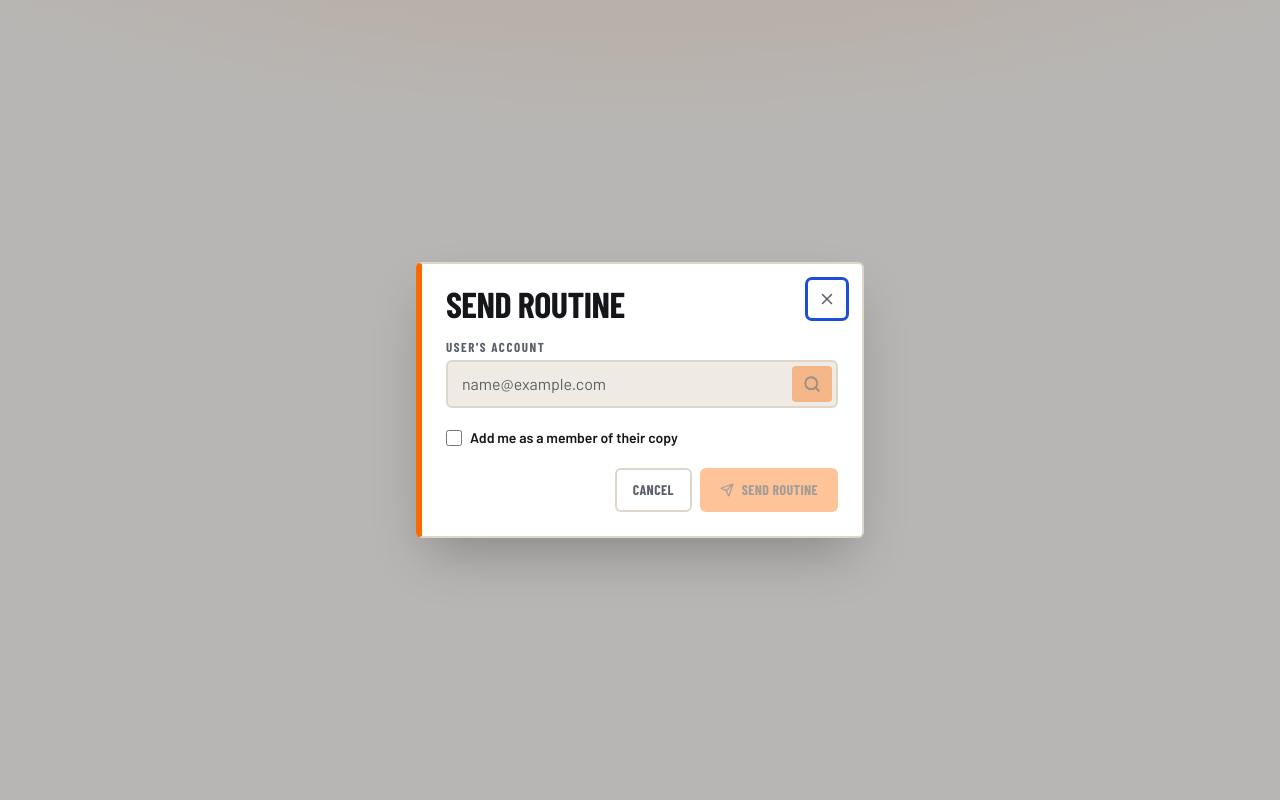
Test case: SendRoutineModal › swaps the search for a check and shows who was found
Type "Ada@Example.com" into the field labelled "User's account" at x=618, y=384, box [448, 362, 788, 406]
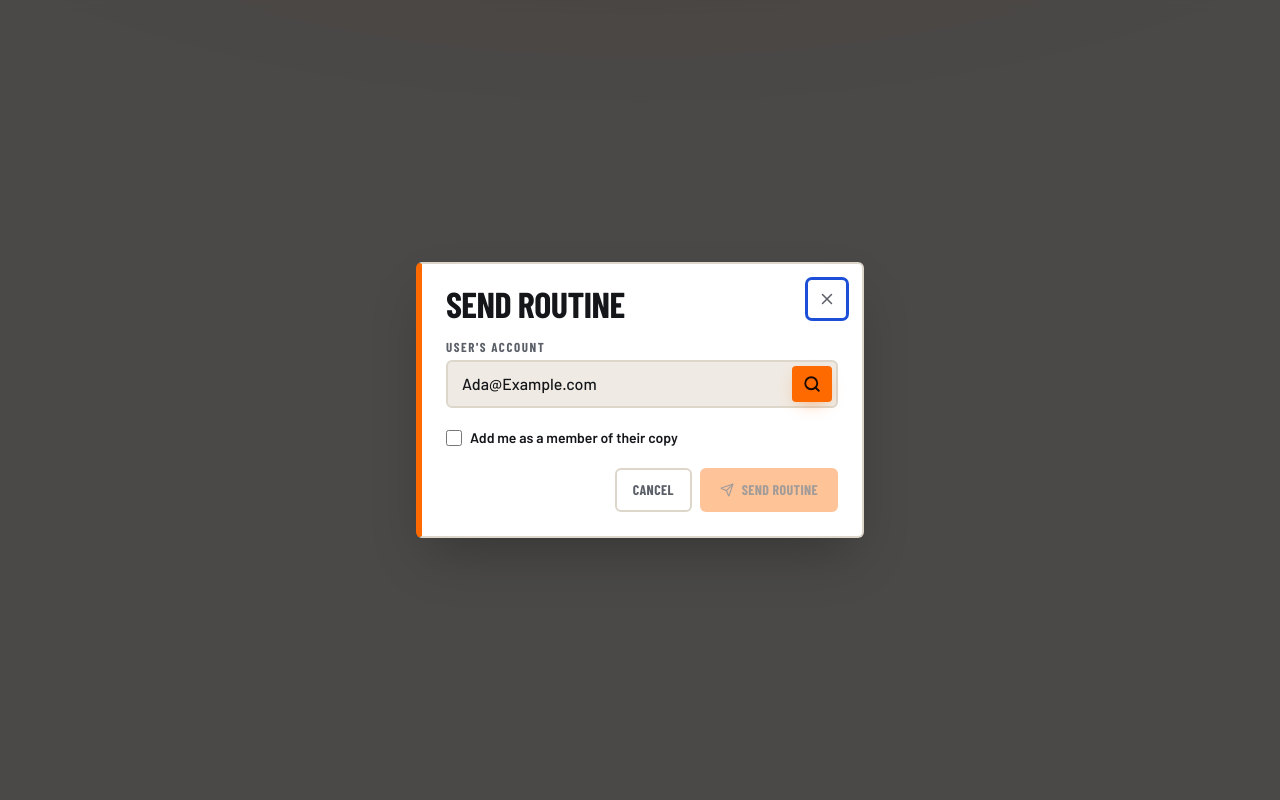
Click the button named "Search" at x=812, y=384, box [792, 366, 832, 402]
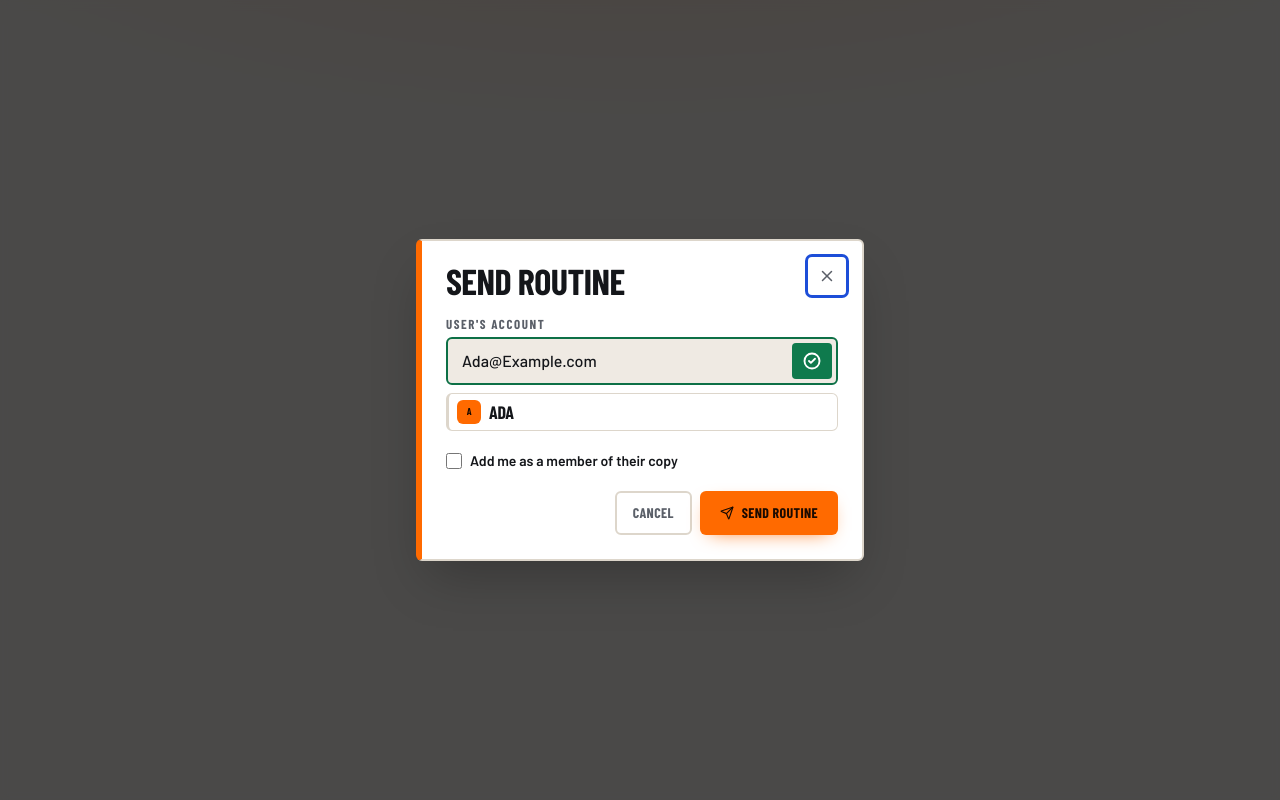
Result: the picture named "Person found" is shown at [803, 352, 821, 370]
Result: the text "Ada" is shown at [489, 401, 514, 423]
Result: the button "Search" is gone
